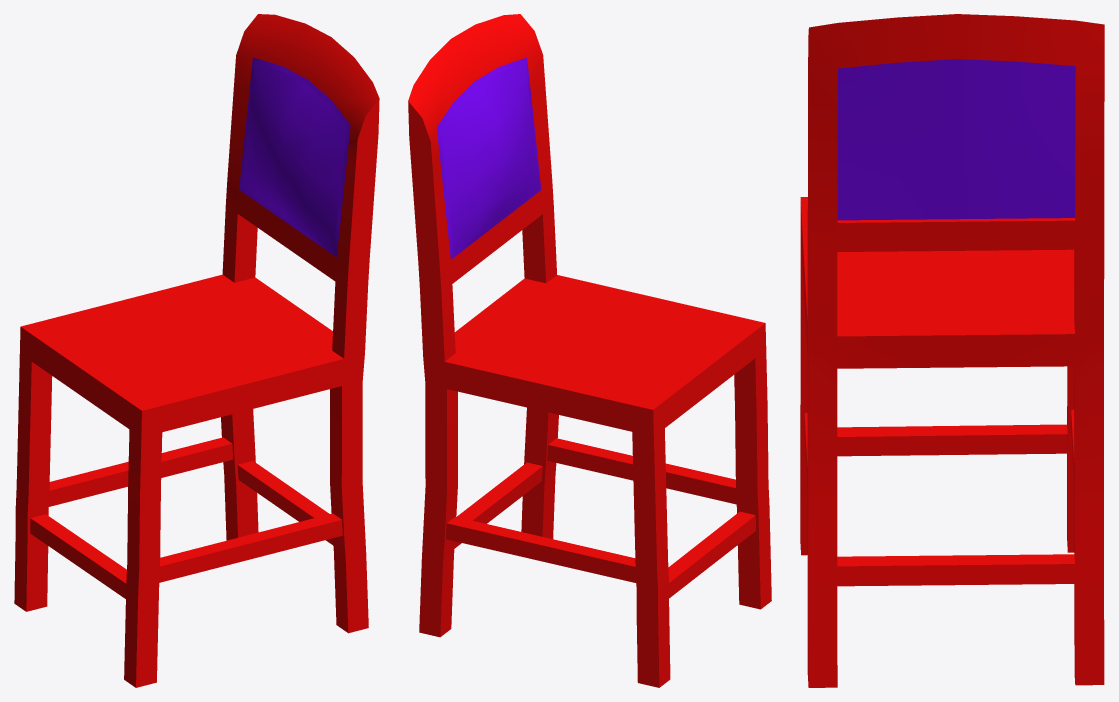
Rendered from WOODCHAIR.FBX.
3 renders of one model, left to right at view 1: azimuth 30°, elevation 25°; view 2: azimuth 150°, elevation 25°; view 3: azimuth 270°, elevation 25°, orthographic. The views are drawn at different scales.
Parts seen in each view (by area): view 1: Object067; view 2: Object067; view 3: Object067.
Boxes of the visible parts, left/top/right/bottom form: Object067: left=14, top=14, right=379, bottom=687; Object067: left=408, top=14, right=771, bottom=687; Object067: left=800, top=14, right=1104, bottom=687.
Bounding box in the file's own units: 54.11 × 107 × 42.94.
